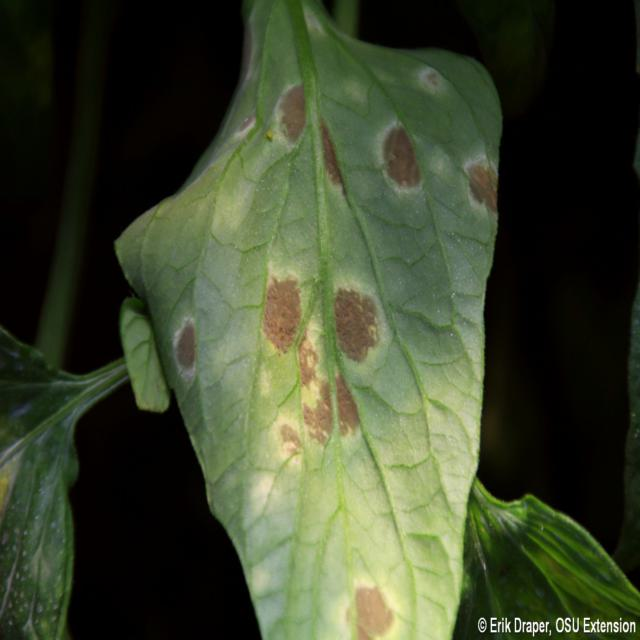Leaf_Mold: (251, 268, 382, 470), (268, 82, 345, 191), (368, 115, 425, 193), (337, 573, 396, 640), (164, 311, 205, 379), (463, 151, 504, 217)
